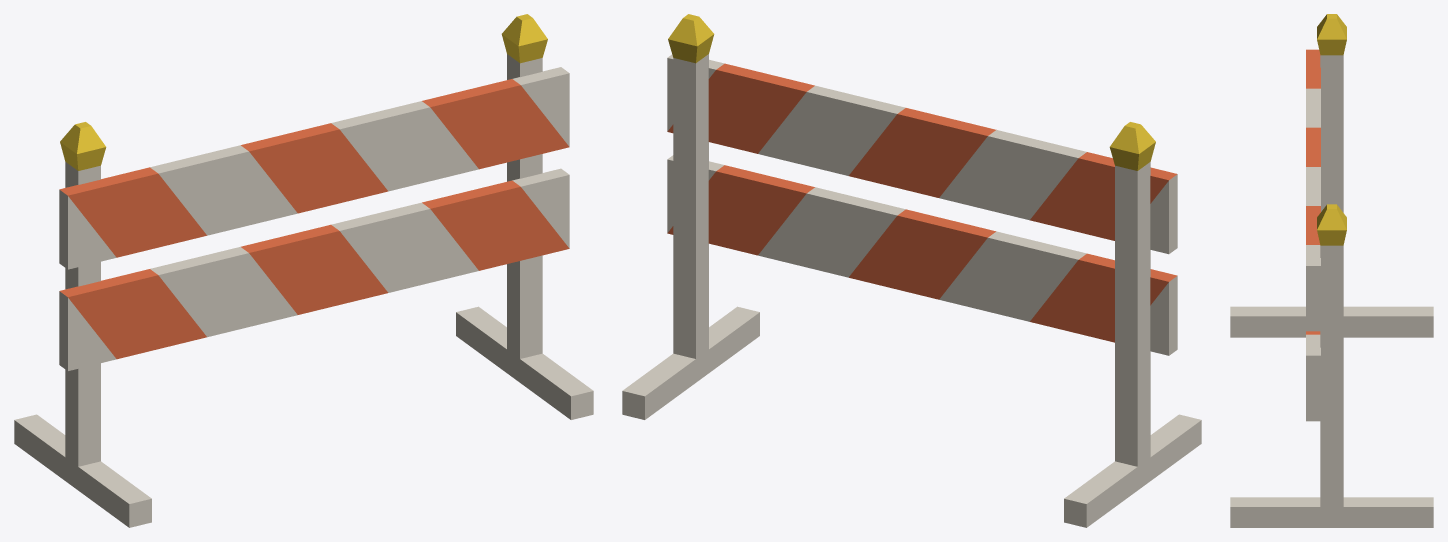
The model's file is Road_Work_Sign_2.fbx.
3 renders of one model, left to right at view 1: azimuth 30°, elevation 25°; view 2: azimuth 150°, elevation 25°; view 3: azimuth 270°, elevation 25°, orthographic. The views are drawn at different scales.
Parts seen in each view (by area): view 1: Road_Work_Sign_2; view 2: Road_Work_Sign_2; view 3: Road_Work_Sign_2.
Part boxes in pixels (x1=…): Road_Work_Sign_2: x1=14, y1=14, x2=593, y2=527; Road_Work_Sign_2: x1=622, y1=14, x2=1201, y2=527; Road_Work_Sign_2: x1=1230, y1=14, x2=1433, y2=527.
Size of the model in its own units: 171 by 116 by 67.73.
1 material, 1 textured.
